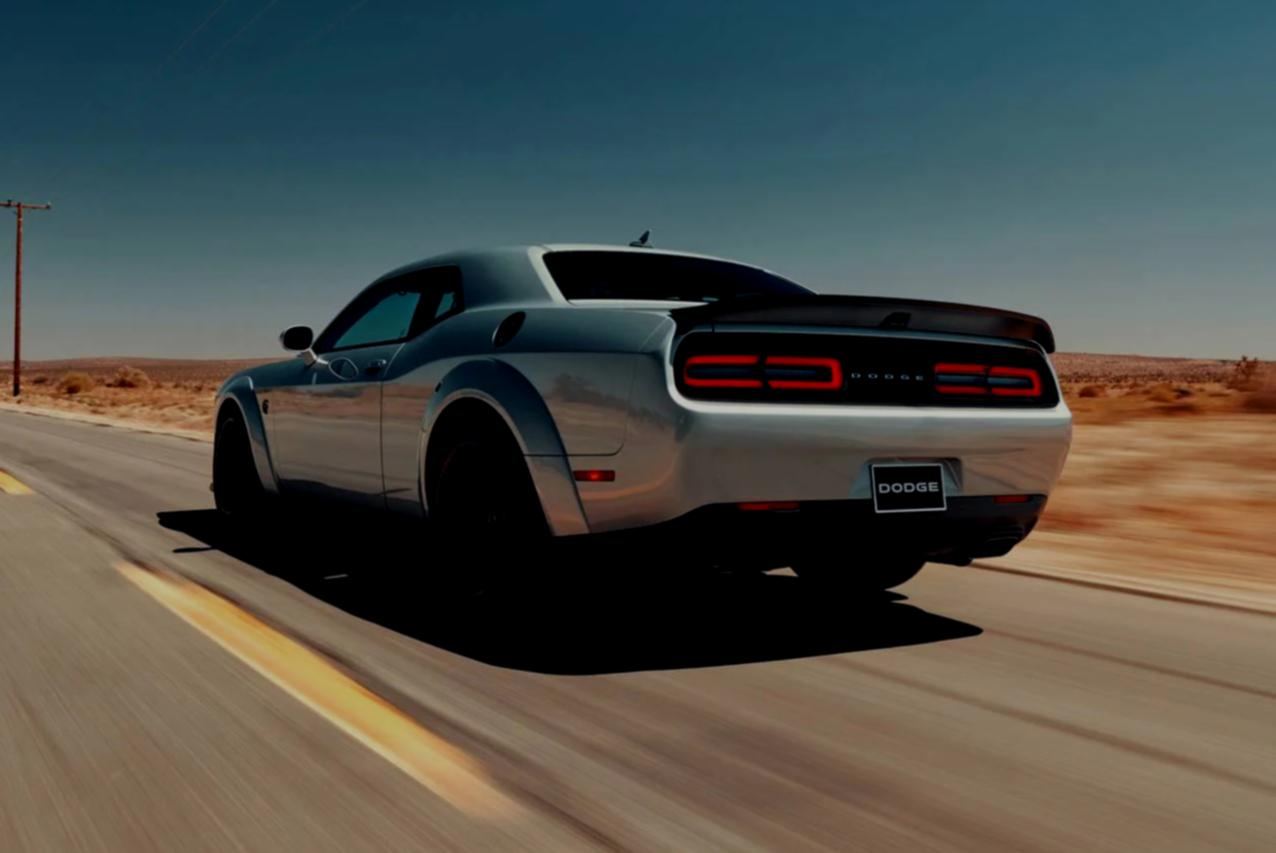dodge: (843, 362, 936, 390)
